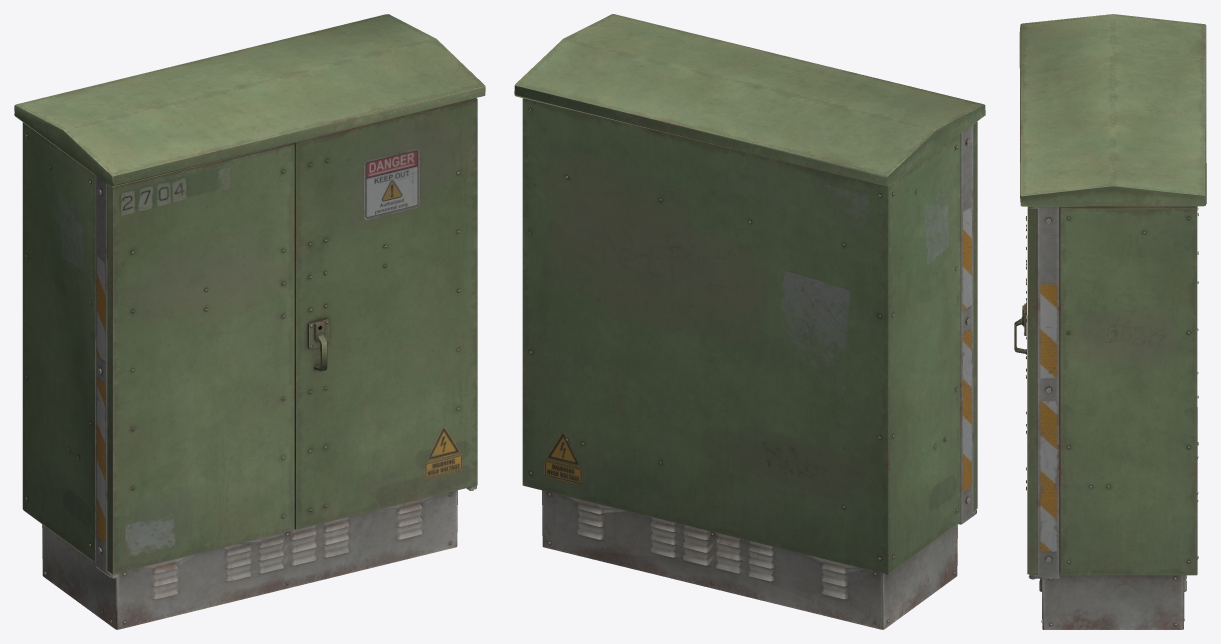
File: utility_box_02.fbx
3 views of the same model, side by side, from view 1: azimuth 30°, elevation 25°; view 2: azimuth 150°, elevation 25°; view 3: azimuth 270°, elevation 25° (orthographic). The views are drawn at different scales.
Parts seen in each view (by area): view 1: utility_box_02; view 2: utility_box_02; view 3: utility_box_02.
Boxes of the visible parts, x1,y1,x2,y2 form: utility_box_02: (14,14,485,629); utility_box_02: (514,14,985,629); utility_box_02: (1014,14,1206,629).
Size of the model in its own units: 91.85 by 112 by 43.2.
Materials: 1 (1 with a texture image).
